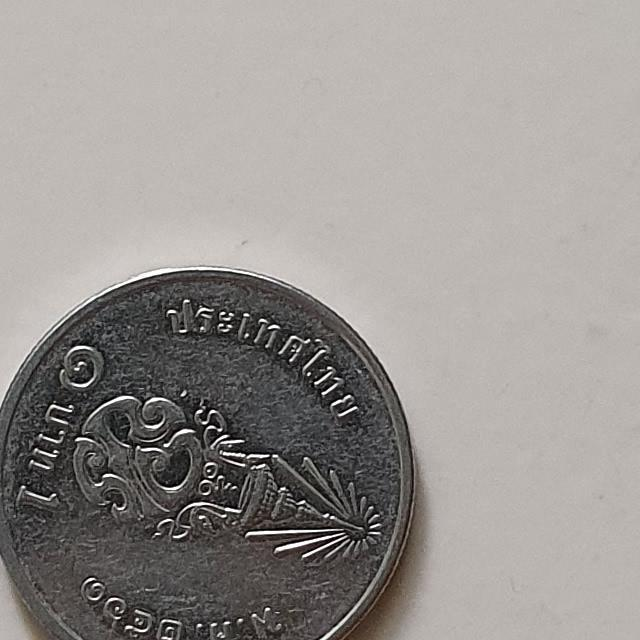1 Bath: (1, 261, 427, 640)
